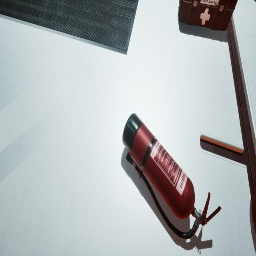FireExtinguisher ]: (122, 113, 222, 239)
FirstAidBox ,: (178, 0, 238, 31)
